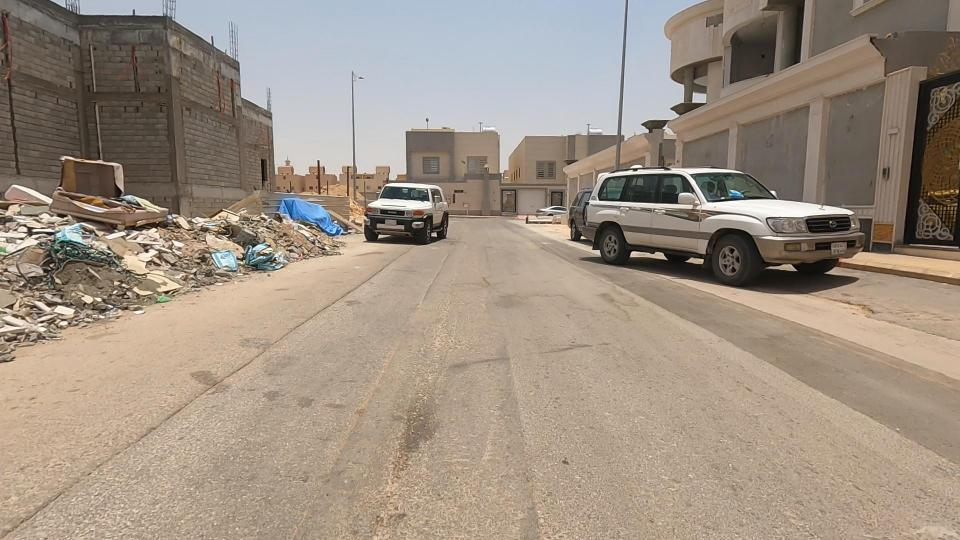GARBAGE: (0, 114, 201, 260), (0, 179, 170, 324), (0, 196, 130, 376), (183, 180, 334, 322), (167, 217, 257, 289)
